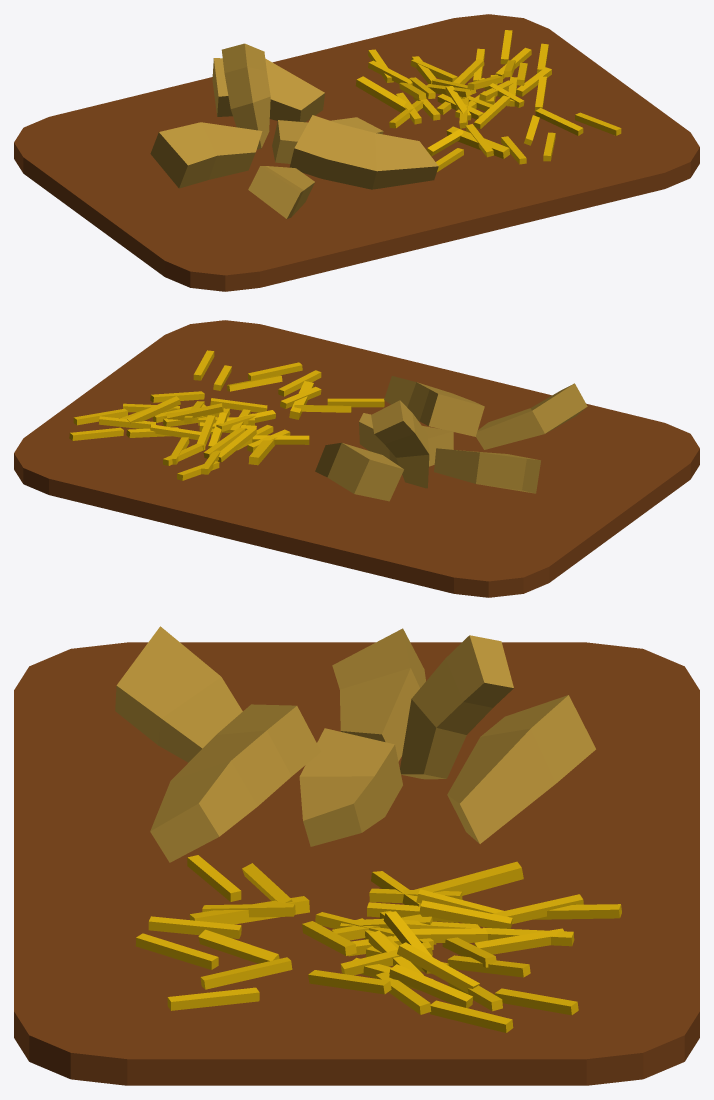
File: fishdish.fbx
3 renders of one model, top to bottom at view 1: azimuth 30°, elevation 25°; view 2: azimuth 150°, elevation 25°; view 3: azimuth 270°, elevation 25°, orthographic. The views are drawn at different scales.
Visible parts, largest first — view 1: Cube.130; view 2: Cube.130; view 3: Cube.130.
Boxes of the visible parts, bbox=[...] form: Cube.130: bbox=[14, 14, 699, 291]; Cube.130: bbox=[14, 320, 699, 597]; Cube.130: bbox=[14, 626, 699, 1085].
Size of the model in its own units: 178 by 35.96 by 124.
